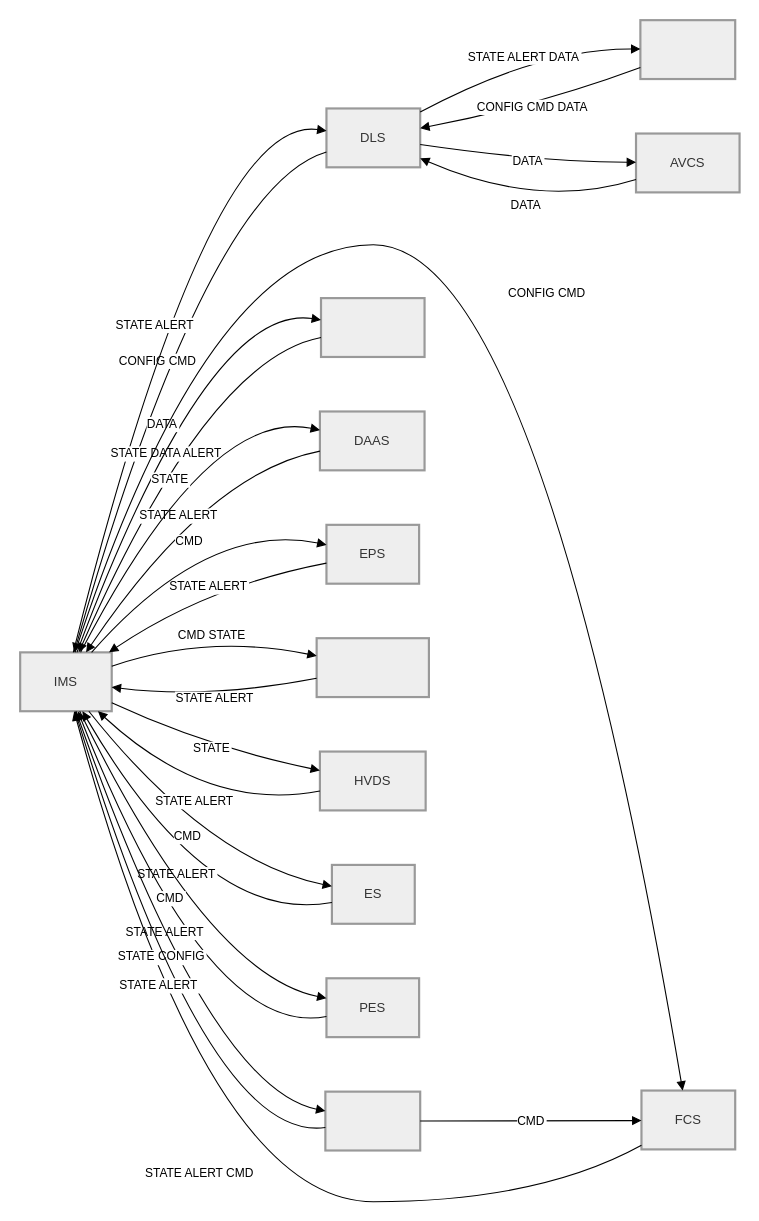
The diagram is 759 pixels wide and 1221 high, and some of its shapes have lost their labels. The shapes that lost their labels are listed below. From the top down, each one's centre as x and y in pixels, then its label:
At point 687,49: "RCS".
At point 372,327: "NAVS".
At point 372,667: "PACKS".
At point 372,1120: "FMS".
